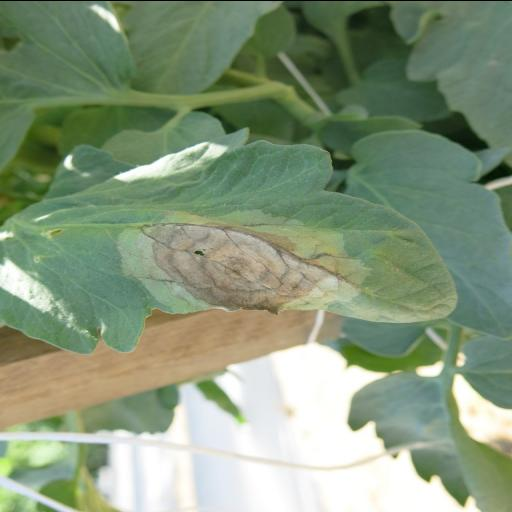disease_tomato: (1, 102, 465, 354)
